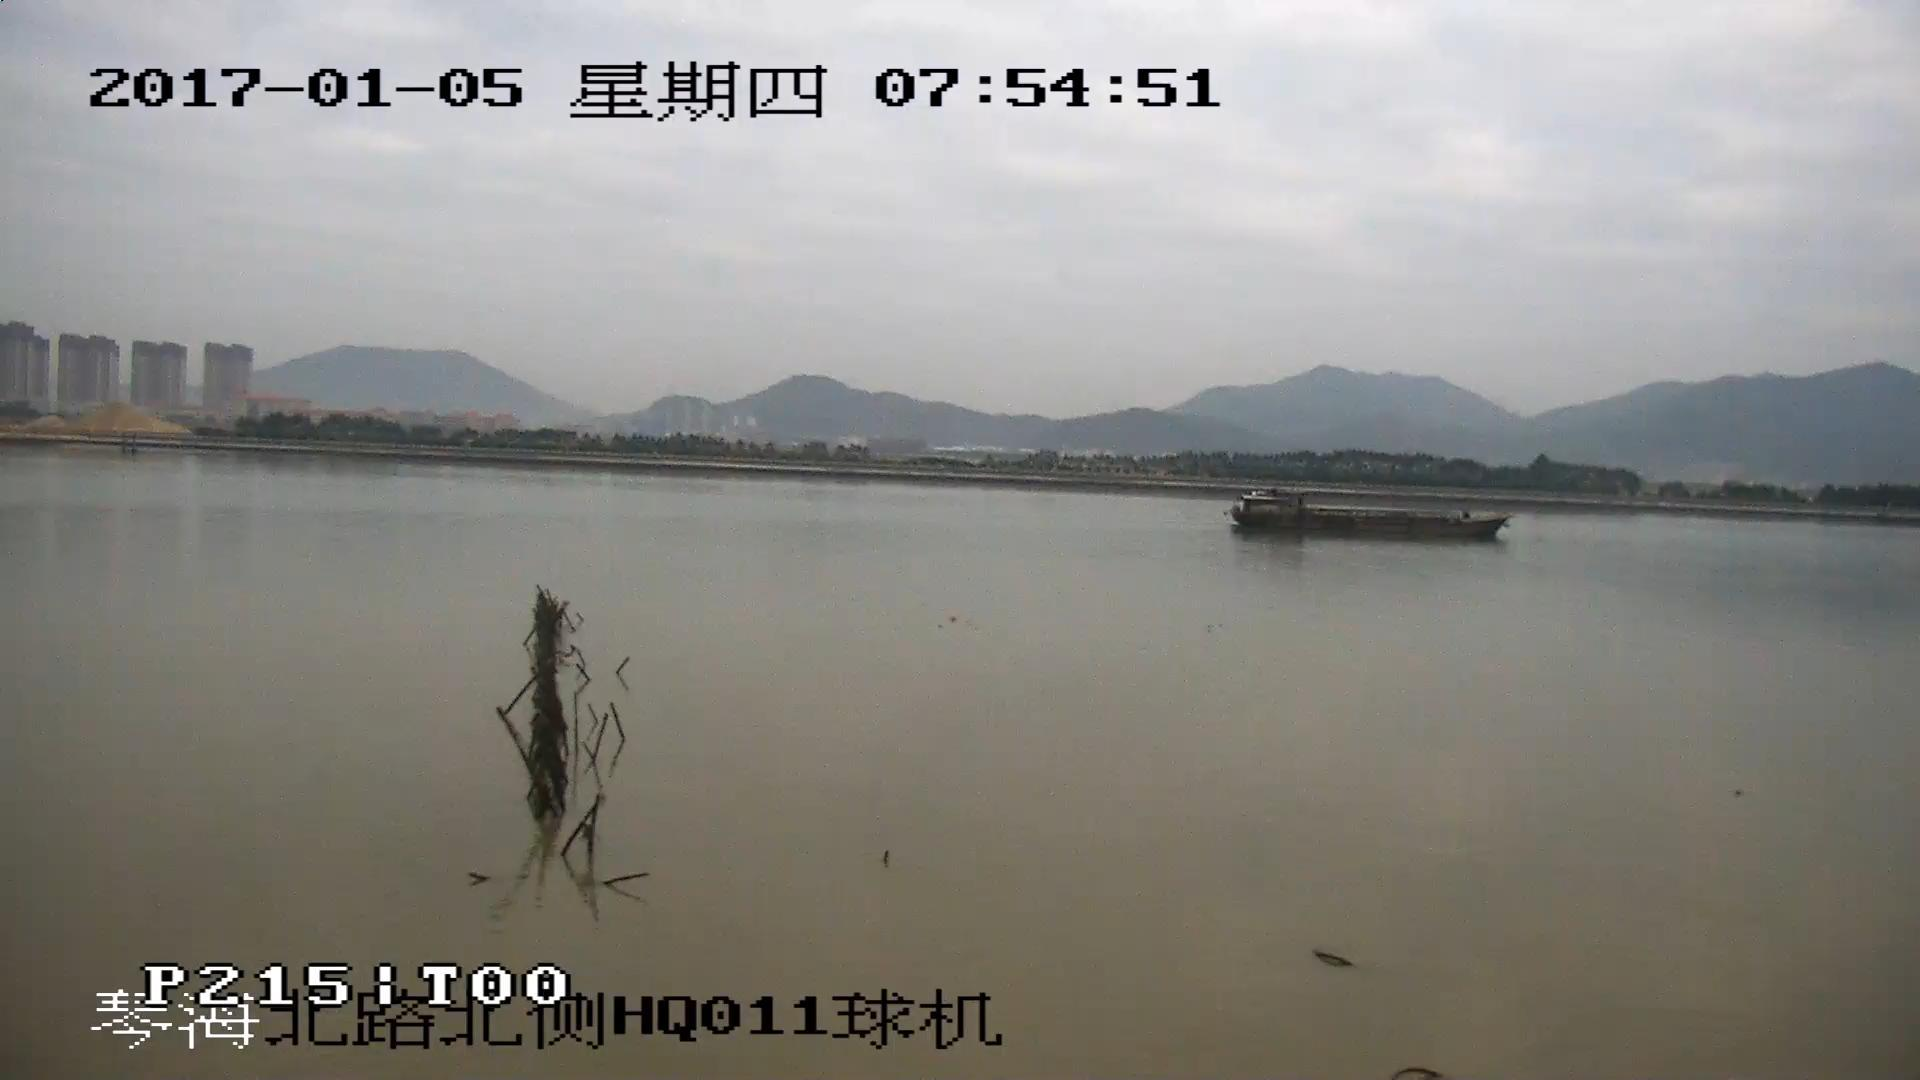Ship: (1224, 489, 1516, 539)
